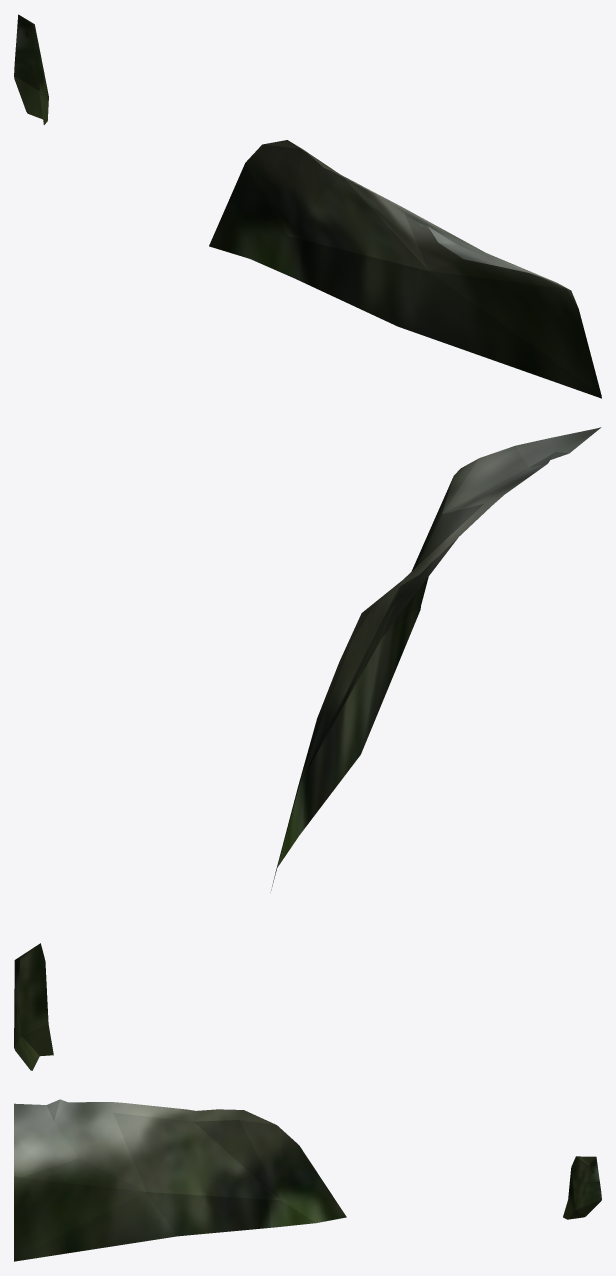
3 views of the same model, one above another, from view 1: azimuth 30°, elevation 25°; view 2: azimuth 150°, elevation 25°; view 3: azimuth 270°, elevation 25° (orthographic). The views are drawn at different scales.
Size of the model in its own units: 0.0928 by 0.1153 by 0.5205.
1 material, 1 textured.
